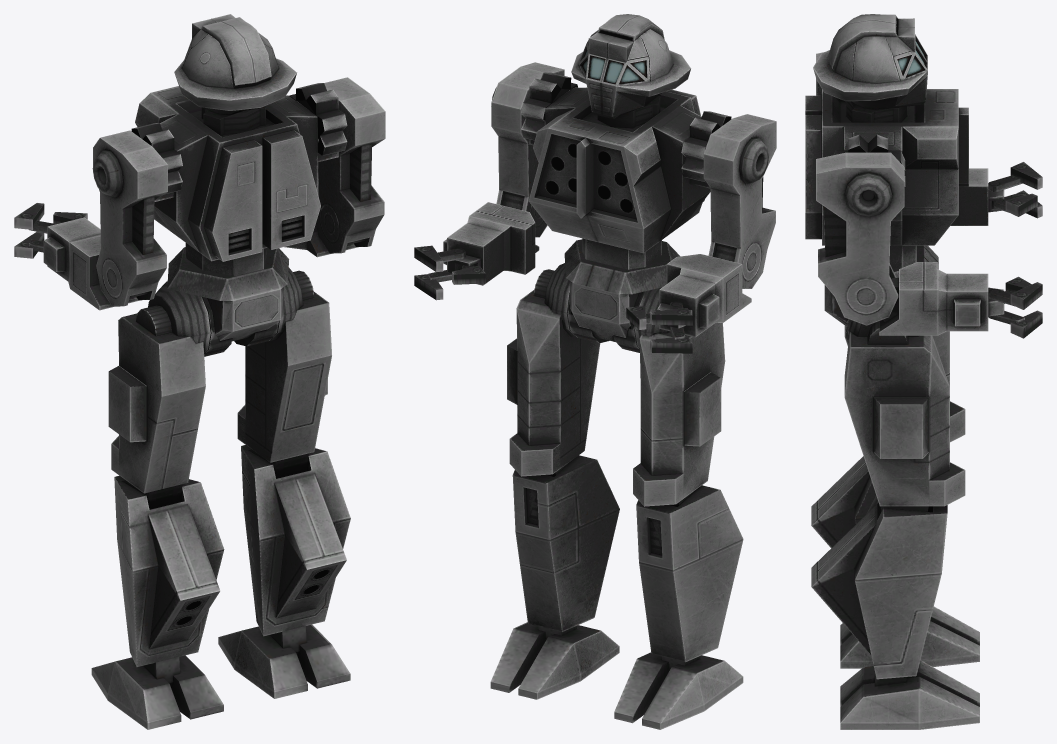
Rendered from Javelin_11B.FBX.
The picture shows the model from 3 angles, left to right: view 1: azimuth 30°, elevation 25°; view 2: azimuth 150°, elevation 25°; view 3: azimuth 270°, elevation 25°; orthographic projection. The views are drawn at different scales.
Visible parts, largest first — view 1: torso, rupperleg, rlowerleg, llowerleg, lupperleg, rupperarm, lupperarm, pelvis, rfoot, lfoot, rlowerarm, rhand; view 2: torso, rlowerleg, llowerleg, lupperleg, rupperleg, rupperarm, pelvis, lfoot, rfoot, lupperarm, rlowerarm, llowerarm (+2 smaller); view 3: torso, lupperleg, llowerleg, lupperarm, lfoot, llowerarm, rfoot, rlowerleg, lhand, rhand, rlowerarm, rupperleg (+1 smaller).
Part boxes in pixels (left/top/right/bottom): torso: left=131, top=14, right=347, bottom=276; rupperleg: left=108, top=281, right=210, bottom=509; rlowerleg: left=114, top=475, right=224, bottom=686; llowerleg: left=241, top=445, right=350, bottom=656; lupperleg: left=237, top=267, right=331, bottom=478; rupperarm: left=92, top=130, right=167, bottom=306; lupperarm: left=316, top=77, right=385, bottom=253; pelvis: left=167, top=247, right=289, bottom=356; rfoot: left=91, top=655, right=223, bottom=729; lfoot: left=218, top=624, right=350, bottom=698; rlowerarm: left=43, top=217, right=139, bottom=310; rhand: left=14, top=203, right=87, bottom=258; torso: left=521, top=14, right=731, bottom=269; rlowerleg: left=636, top=485, right=743, bottom=670; llowerleg: left=512, top=455, right=619, bottom=639; lupperleg: left=507, top=263, right=600, bottom=476; rupperleg: left=633, top=287, right=725, bottom=506; rupperarm: left=703, top=114, right=776, bottom=288; pelvis: left=564, top=239, right=680, bottom=352; lfoot: left=490, top=622, right=619, bottom=699; rfoot: left=614, top=652, right=743, bottom=729; lupperarm: left=491, top=62, right=564, bottom=237; rlowerarm: left=659, top=254, right=751, bottom=337; llowerarm: left=443, top=202, right=539, bottom=285; torso: left=805, top=14, right=968, bottom=267; lupperleg: left=844, top=319, right=965, bottom=511; llowerleg: left=811, top=496, right=947, bottom=686; lupperarm: left=816, top=152, right=904, bottom=325; lfoot: left=840, top=660, right=979, bottom=729; llowerarm: left=879, top=262, right=988, bottom=335; rfoot: left=840, top=606, right=979, bottom=668; rlowerleg: left=811, top=456, right=876, bottom=548; lhand: left=988, top=276, right=1042, bottom=338; rhand: left=988, top=162, right=1042, bottom=218; rlowerarm: left=950, top=168, right=988, bottom=225; rupperleg: left=844, top=325, right=965, bottom=442.
Bounding box in the file's own units: 21.9 × 48.86 × 15.92.
1 material, 1 textured.
